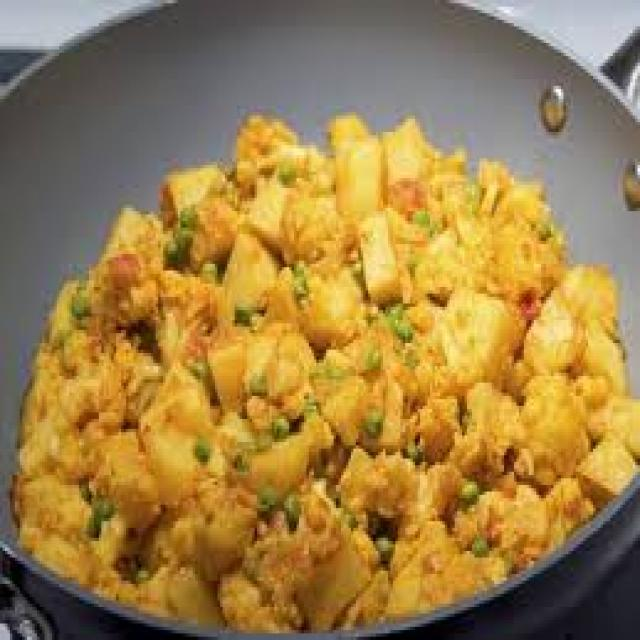Aloo Gobi: (34, 325, 392, 615)
